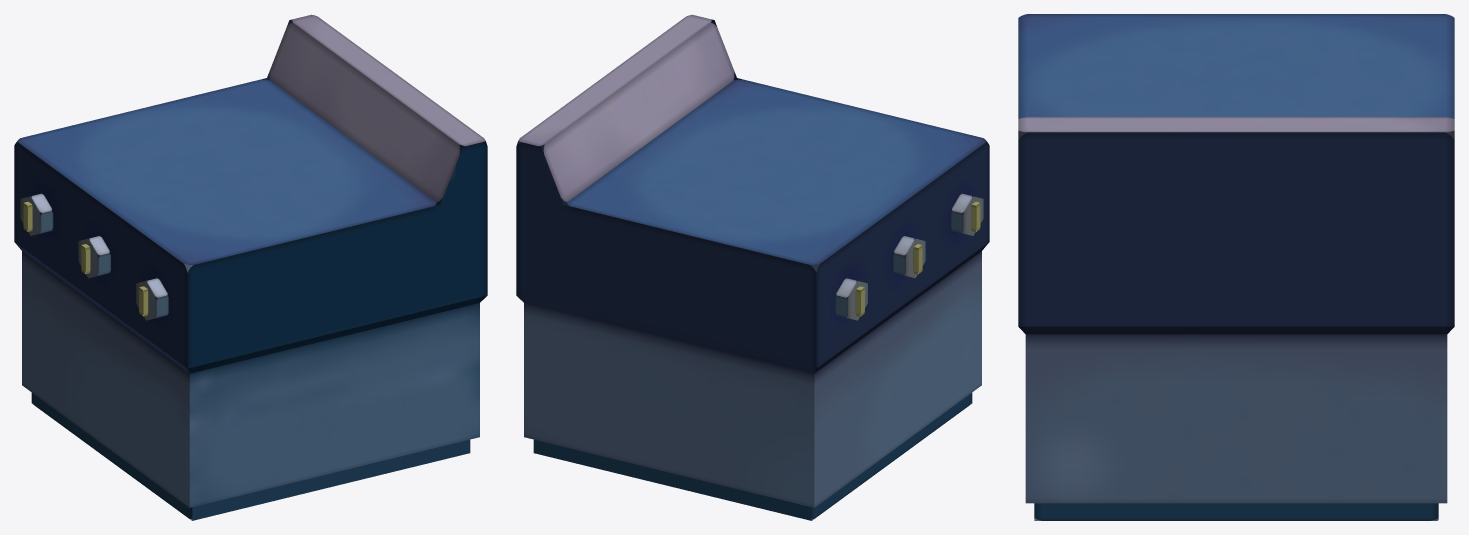
Rendered from Oven.fbx.
The picture shows the model from 3 angles, left to right: view 1: azimuth 30°, elevation 25°; view 2: azimuth 150°, elevation 25°; view 3: azimuth 270°, elevation 25°; orthographic projection. The views are drawn at different scales.
Parts seen in each view (by area): view 1: Body, cylinder, cylinder_1, cylinder_2; view 2: Body, cylinder_2, cylinder_1, cylinder; view 3: Body.
Boxes of the visible parts, x1=… form: Body: x1=14, y1=14, x2=487, y2=520; cylinder: x1=20, y1=193, x2=53, y2=235; cylinder_1: x1=78, y1=236, x2=110, y2=278; cylinder_2: x1=136, y1=278, x2=168, y2=320; Body: x1=516, y1=14, x2=989, y2=520; cylinder_2: x1=950, y1=193, x2=983, y2=235; cylinder_1: x1=893, y1=236, x2=925, y2=278; cylinder: x1=835, y1=278, x2=867, y2=320; Body: x1=1018, y1=14, x2=1454, y2=520.
Size of the model in its own units: 159 by 150 by 150.
1 material, 1 textured.
